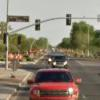Traffic light: (28, 10, 88, 27)
